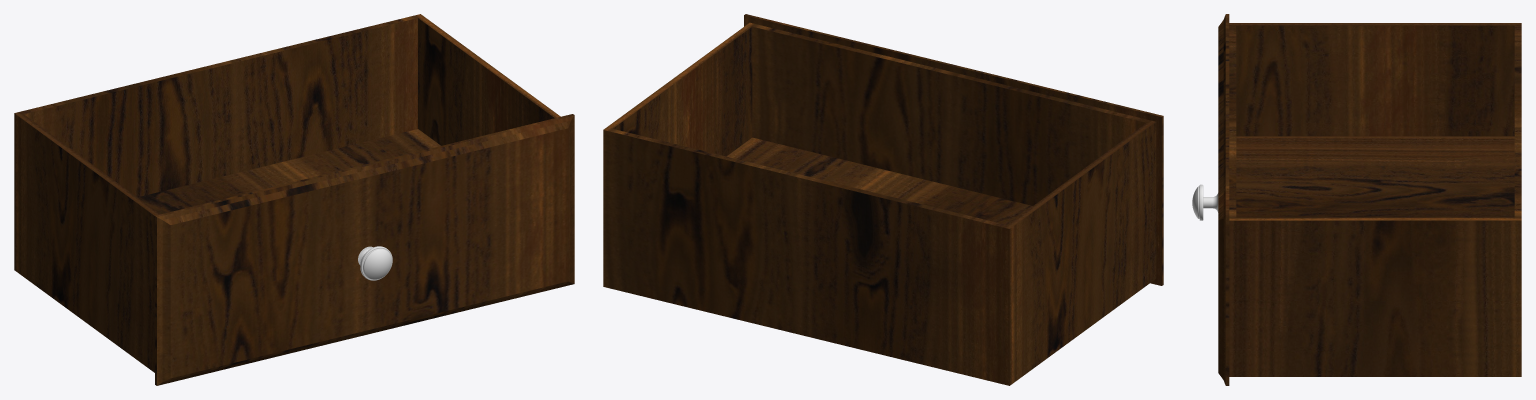
Rendered from cabinetDrawer.fbx.
The picture shows the model from 3 angles, left to right: view 1: azimuth 30°, elevation 25°; view 2: azimuth 150°, elevation 25°; view 3: azimuth 270°, elevation 25°; orthographic projection.
Visible parts, largest first — view 1: front_low_Cube.013, uploads_files_5161606_Silver+Cup+Knob+Handle; view 2: front_low_Cube.013; view 3: front_low_Cube.013, uploads_files_5161606_Silver+Cup+Knob+Handle.
Boxes of the visible parts, x1=… form: front_low_Cube.013: x1=14, y1=14, x2=574, y2=385; uploads_files_5161606_Silver+Cup+Knob+Handle: x1=358, y1=246, x2=392, y2=280; front_low_Cube.013: x1=603, y1=14, x2=1163, y2=385; front_low_Cube.013: x1=1218, y1=14, x2=1521, y2=385; uploads_files_5161606_Silver+Cup+Knob+Handle: x1=1192, y1=184, x2=1218, y2=220.
Bounding box in the file's own units: 0.5691 × 0.2199 × 0.3894.
